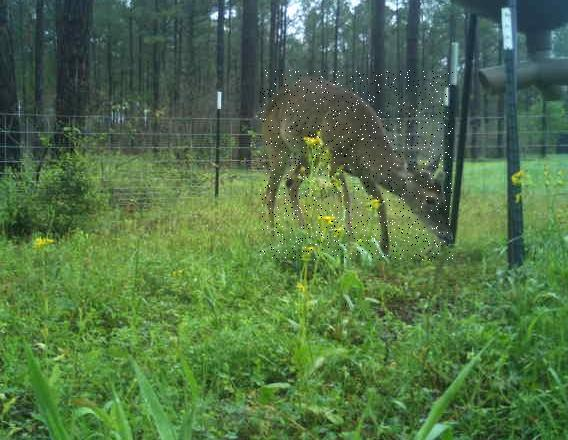Deer: (260, 70, 453, 260)
